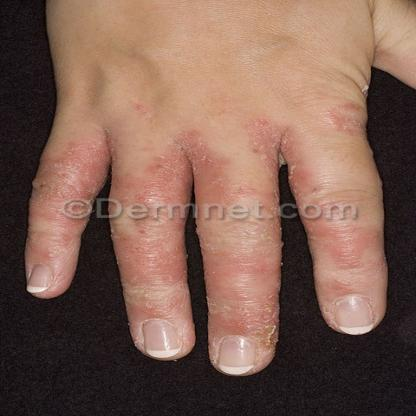Eczema: (108, 224, 198, 290), (217, 292, 290, 354), (198, 221, 290, 268), (315, 222, 383, 273), (245, 115, 302, 166), (35, 154, 84, 200), (84, 125, 140, 165), (120, 296, 193, 326), (30, 221, 94, 255), (178, 132, 222, 174), (142, 158, 179, 200), (332, 96, 366, 135), (129, 98, 168, 125), (324, 275, 357, 304)
